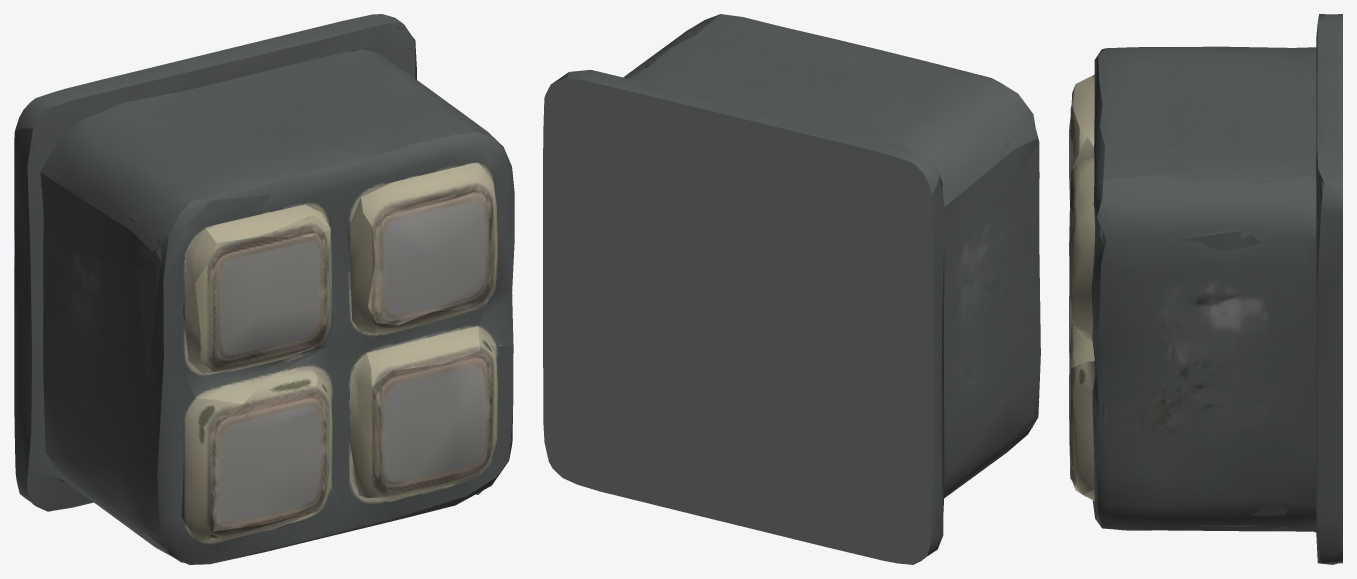
The model's file is battery_bank_mk1.glb.
3 views of the same model, side by side, from view 1: azimuth 30°, elevation 25°; view 2: azimuth 150°, elevation 25°; view 3: azimuth 270°, elevation 25° (orthographic). The views are drawn at different scales.
Parts seen in each view (by area): view 1: part; view 2: part; view 3: part.
Boxes of the visible parts, box(x1,y1,x2,y2) form: part: box(14, 14, 514, 564); part: box(543, 14, 1040, 564); part: box(1069, 14, 1342, 564).
Size of the model in its own units: 1.2 by 1.2 by 0.7576.
2 materials, 1 textured.
